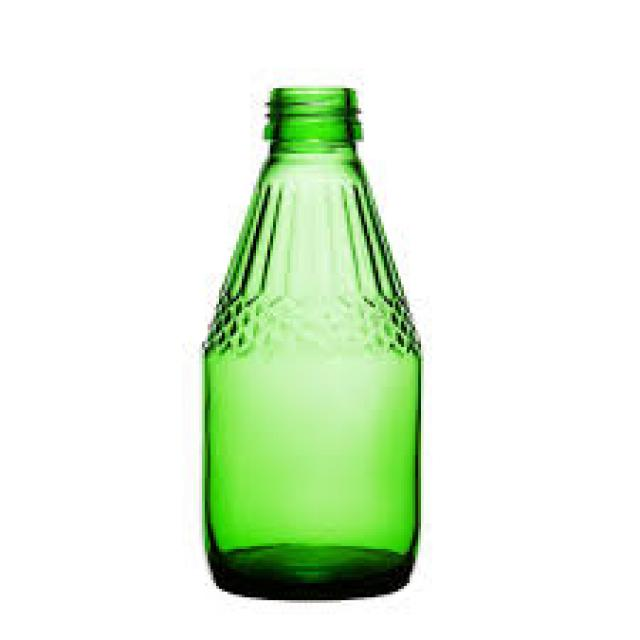Glass-Non-Biodegradable but Recyclable-: (201, 89, 421, 603)
